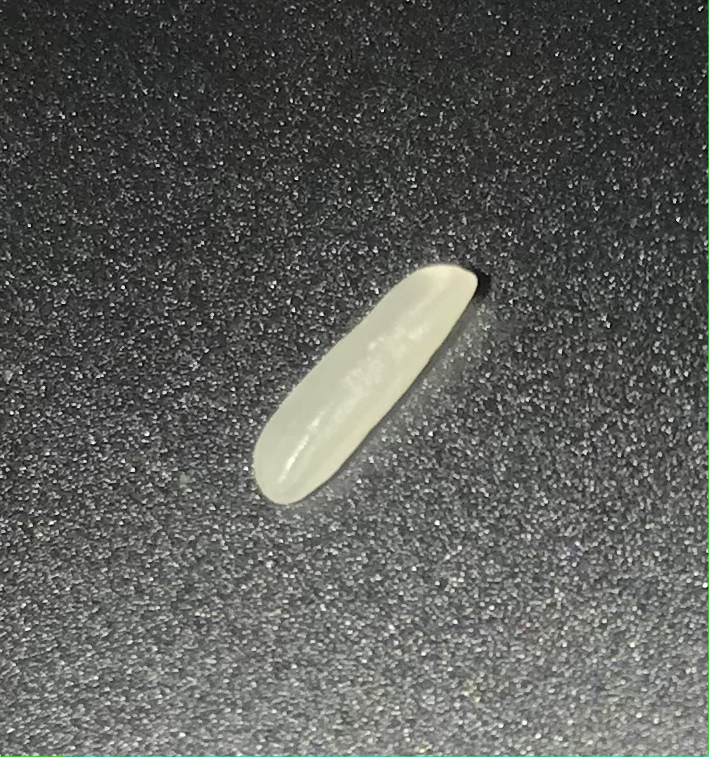Gao Thom My: (237, 256, 492, 511)
